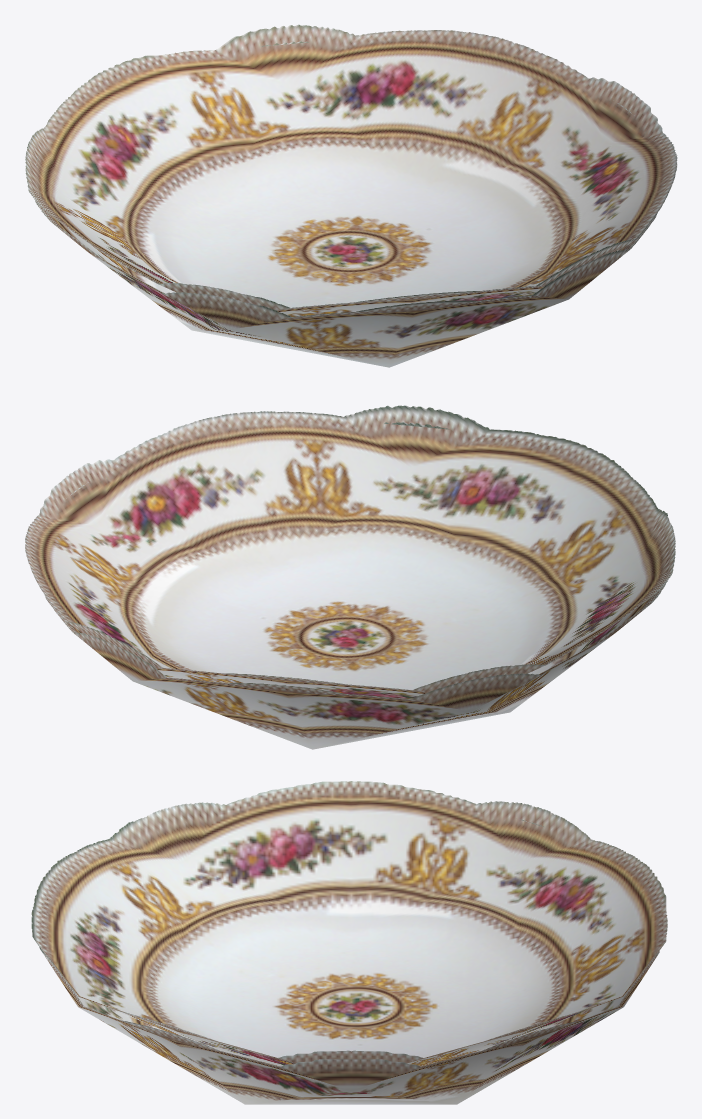
Rendered from Bowl_Soup.fbx.
3 views of the same model, one above another, from view 1: azimuth 30°, elevation 25°; view 2: azimuth 150°, elevation 25°; view 3: azimuth 270°, elevation 25° (orthographic). The views are drawn at different scales.
Parts seen in each view (by area): view 1: Bowl_Soup_LOD0; view 2: Bowl_Soup_LOD0; view 3: Bowl_Soup_LOD0.
Boxes of the visible parts, x1,y1,x2,y2 form: Bowl_Soup_LOD0: [25, 24, 677, 367]; Bowl_Soup_LOD0: [25, 405, 675, 749]; Bowl_Soup_LOD0: [31, 781, 667, 1104].
Size of what is drawn, in the model's own units: 54.25 by 12.45 by 57.04.
